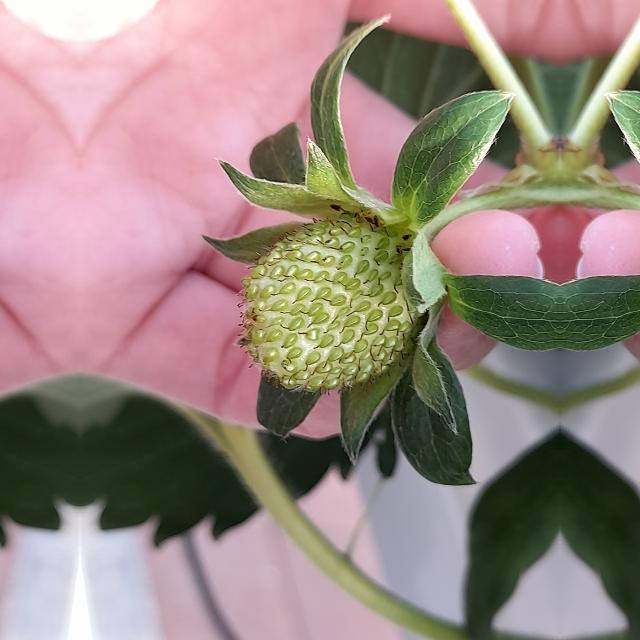Health_25: (236, 213, 420, 395)
